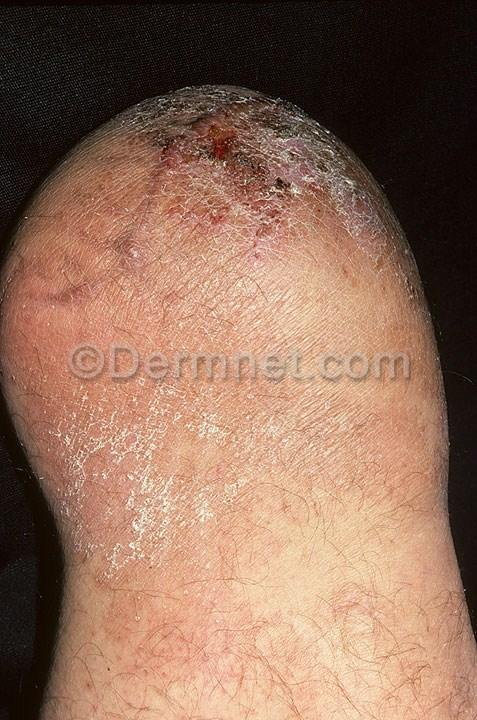Eczema: (145, 117, 283, 236), (105, 580, 243, 696), (252, 370, 363, 498), (92, 380, 185, 507), (287, 132, 379, 252), (181, 433, 269, 558), (299, 558, 412, 647), (30, 434, 139, 524), (7, 250, 96, 353), (179, 334, 260, 447), (219, 242, 306, 346), (98, 320, 192, 406), (2, 357, 91, 444), (235, 609, 306, 708), (362, 242, 423, 337), (116, 496, 192, 570), (87, 221, 148, 307), (75, 143, 152, 208), (174, 88, 262, 141), (33, 190, 96, 261), (42, 663, 103, 720), (71, 523, 125, 580), (259, 107, 327, 144), (118, 101, 181, 137), (324, 250, 365, 300), (413, 361, 413, 364)
